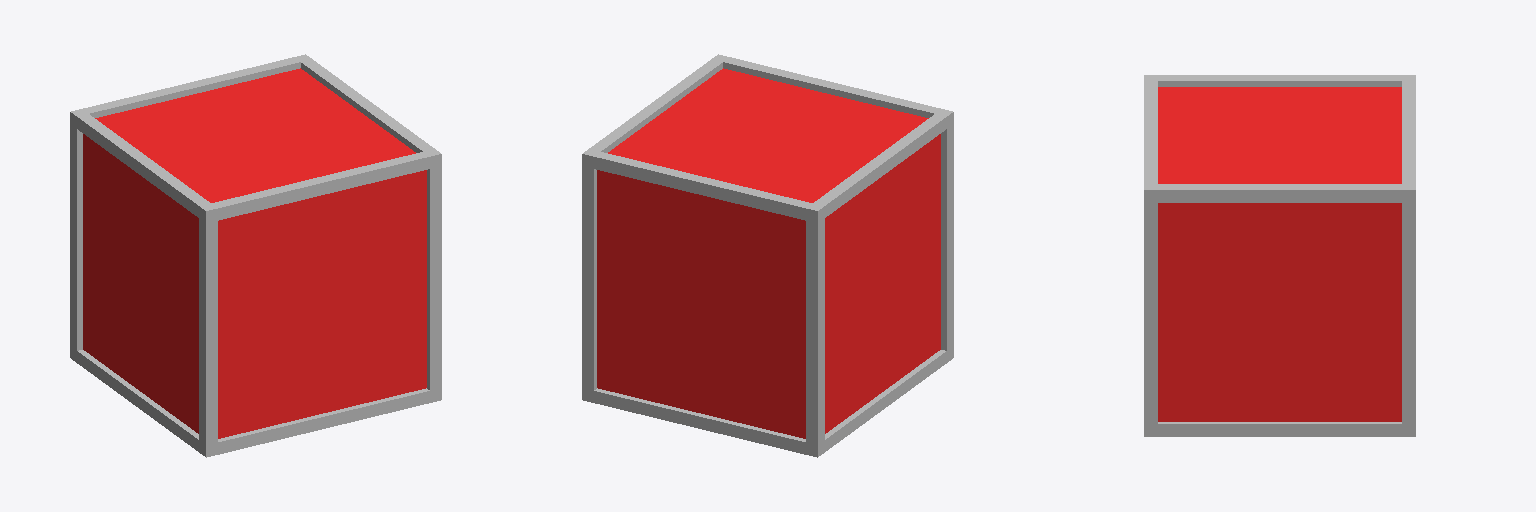
Rendered from glass_red.obj.
The picture shows the model from 3 angles: view 1: azimuth 30°, elevation 25°; view 2: azimuth 150°, elevation 25°; view 3: azimuth 270°, elevation 25°; orthographic projection.
Visible parts, largest first — view 1: glass_geo, glass_geo.001; view 2: glass_geo, glass_geo.001; view 3: glass_geo, glass_geo.001.
Boxes of the visible parts, box(x1,y1,x2,y2) form: glass_geo: box(83, 68, 426, 438); glass_geo.001: box(70, 54, 441, 457); glass_geo: box(597, 68, 940, 438); glass_geo.001: box(582, 54, 953, 457); glass_geo: box(1158, 87, 1401, 421); glass_geo.001: box(1144, 75, 1415, 436).
Bounding box in the file's own units: 1 × 1 × 1.